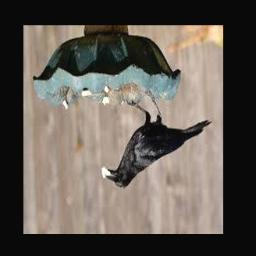Crow: (102, 92, 212, 189)
